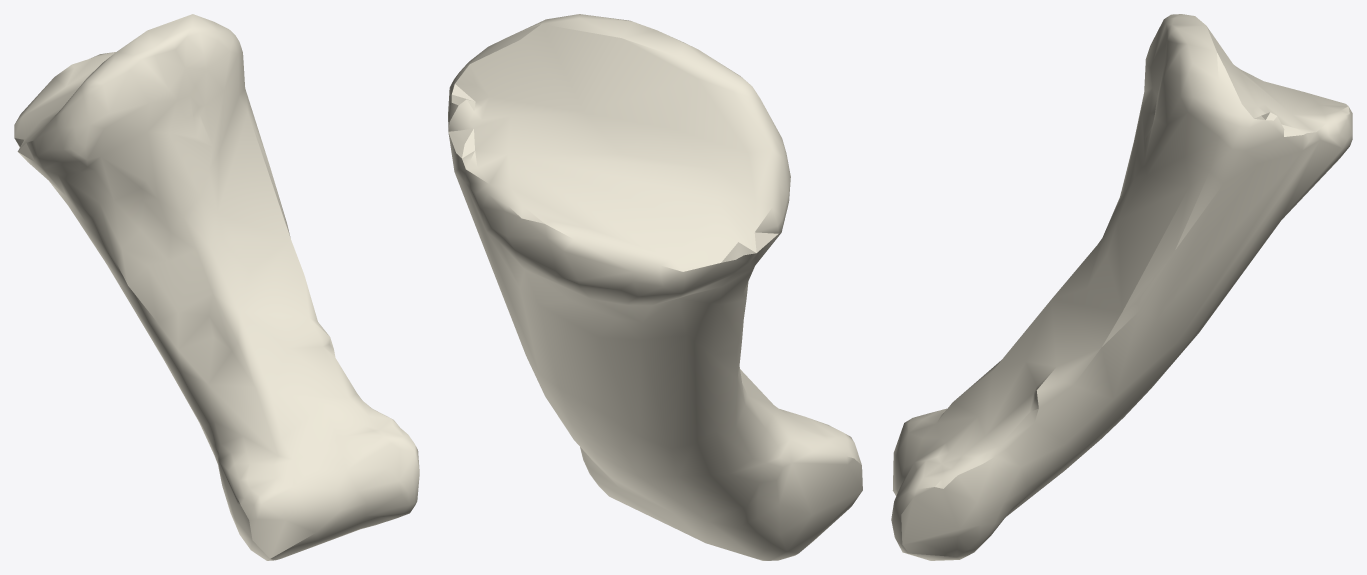
Rendered from fma24458.glb.
The picture shows the model from 3 angles, left to right: view 1: azimuth 30°, elevation 25°; view 2: azimuth 150°, elevation 25°; view 3: azimuth 270°, elevation 25°; orthographic projection. The views are drawn at different scales.
Visible parts, largest first — view 1: FMA24458; view 2: FMA24458; view 3: FMA24458.
Boxes of the visible parts, bbox=[...] form: FMA24458: bbox=[14, 14, 419, 560]; FMA24458: bbox=[448, 14, 862, 560]; FMA24458: bbox=[891, 14, 1352, 560].
Bounding box in the file's own units: 0.0117 × 0.0198 × 0.0168.
